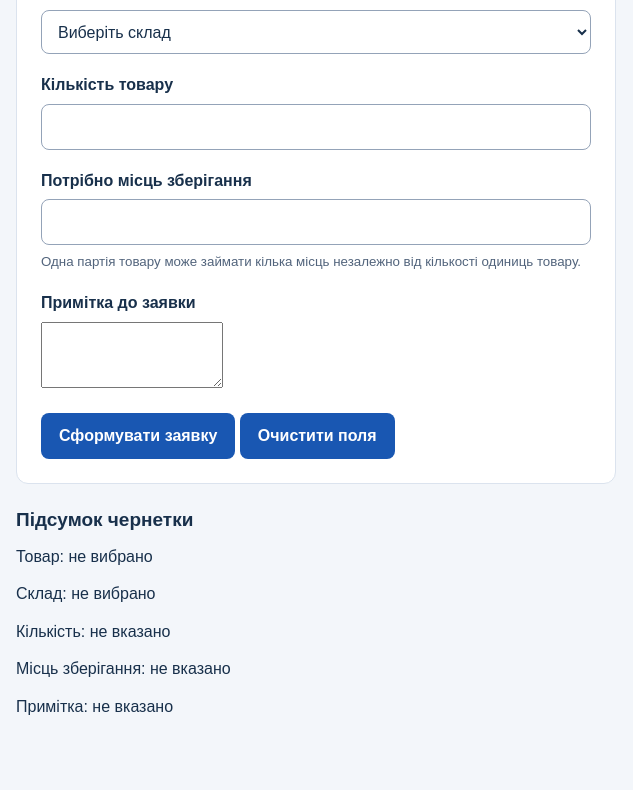
Test: показує помилки для порожньої заявки
(page scrolled)
Click the button "Сформувати заявку" at (138, 436), box [41, 413, 235, 459]
(page scrolled)
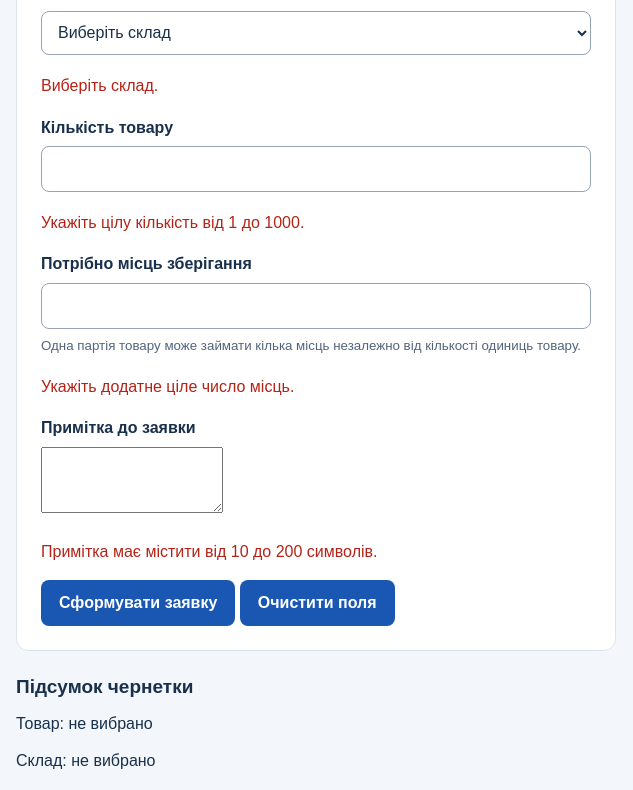
Result: the text "Виберіть склад." is shown at [41, 77, 158, 94]
